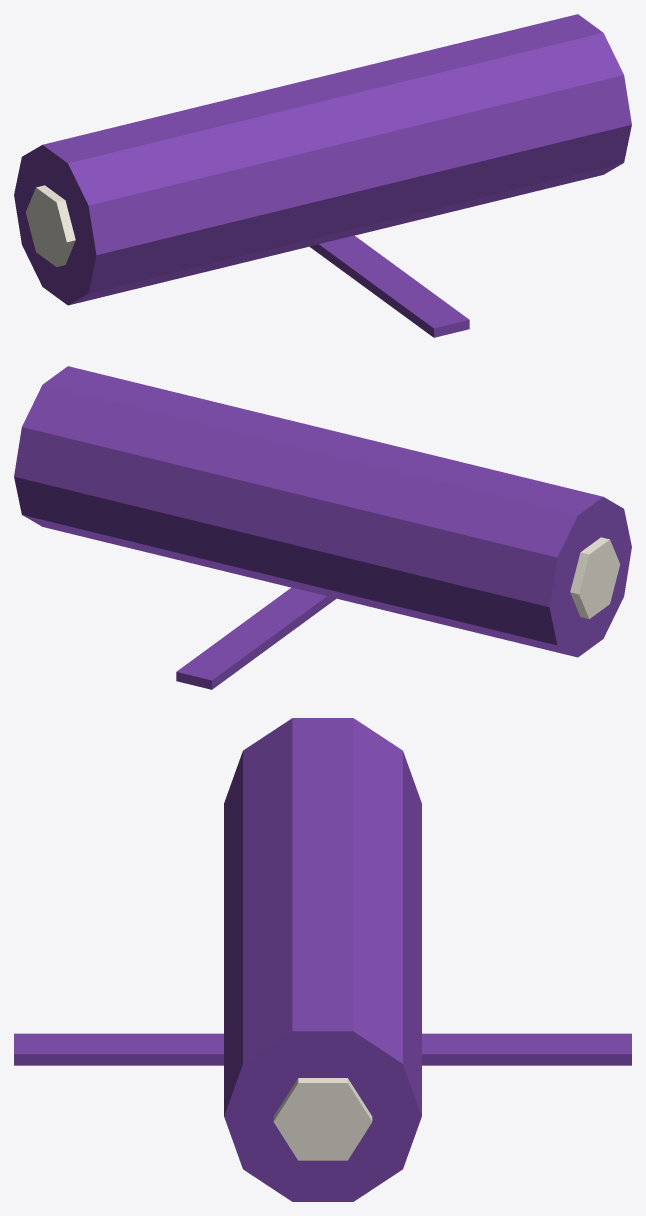
Rendered from yoga_mat_rolled.fbx.
3 renders of one model, top to bottom at view 1: azimuth 30°, elevation 25°; view 2: azimuth 150°, elevation 25°; view 3: azimuth 270°, elevation 25°, orthographic. The views are drawn at different scales.
Parts seen in each view (by area): view 1: yoga_mat_rolled; view 2: yoga_mat_rolled; view 3: yoga_mat_rolled.
Part boxes in pixels (x1,y1,x2,y2): yoga_mat_rolled: (14,14,631,337); yoga_mat_rolled: (14,366,631,689); yoga_mat_rolled: (14,718,631,1201).
Bounding box in the file's own units: 0.62 × 0.1611 × 0.5.
